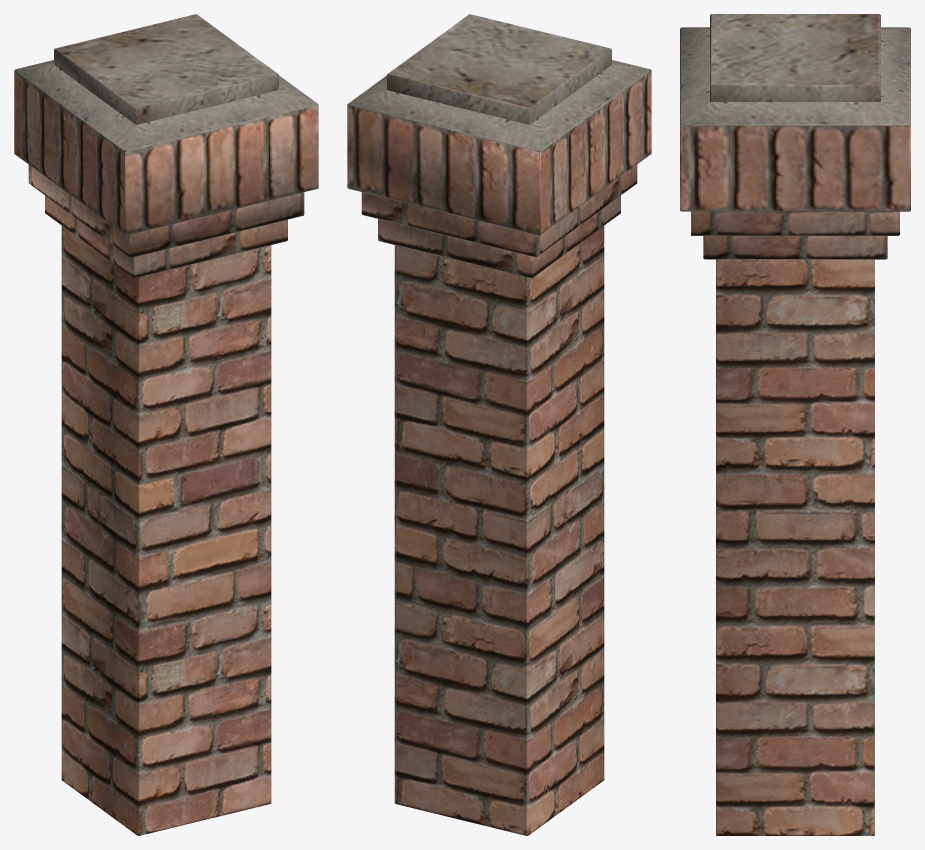
The model's file is brickwall01.FBX.
3 views of the same model, side by side, from view 1: azimuth 30°, elevation 25°; view 2: azimuth 150°, elevation 25°; view 3: azimuth 270°, elevation 25° (orthographic). The views are drawn at different scales.
Parts seen in each view (by area): view 1: brick_wall_column_big; view 2: brick_wall_column_big; view 3: brick_wall_column_big.
Part boxes in pixels (x1=…): brick_wall_column_big: x1=14, y1=14, x2=318, y2=835; brick_wall_column_big: x1=347, y1=14, x2=651, y2=835; brick_wall_column_big: x1=680, y1=14, x2=910, y2=835.
Size of the model in its own units: 84.11 by 303 by 84.11.
